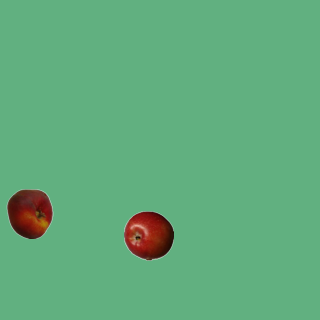Apple Braeburn: (123, 210, 173, 260)
Nectarine Flat: (4, 188, 54, 238)
